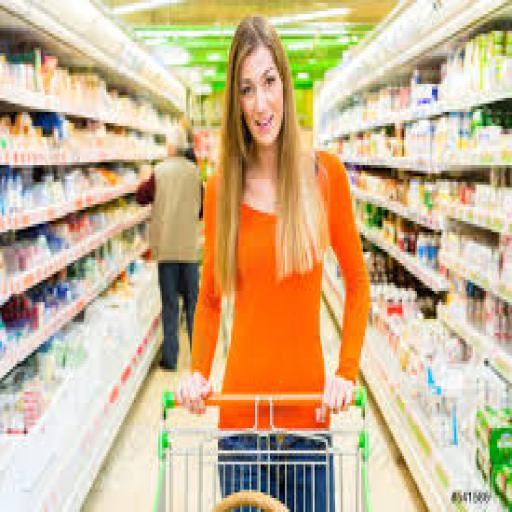shopping_cart: (153, 384, 370, 512)
